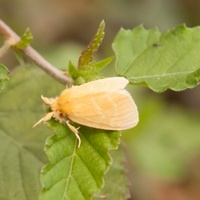insect: (33, 77, 138, 147)
